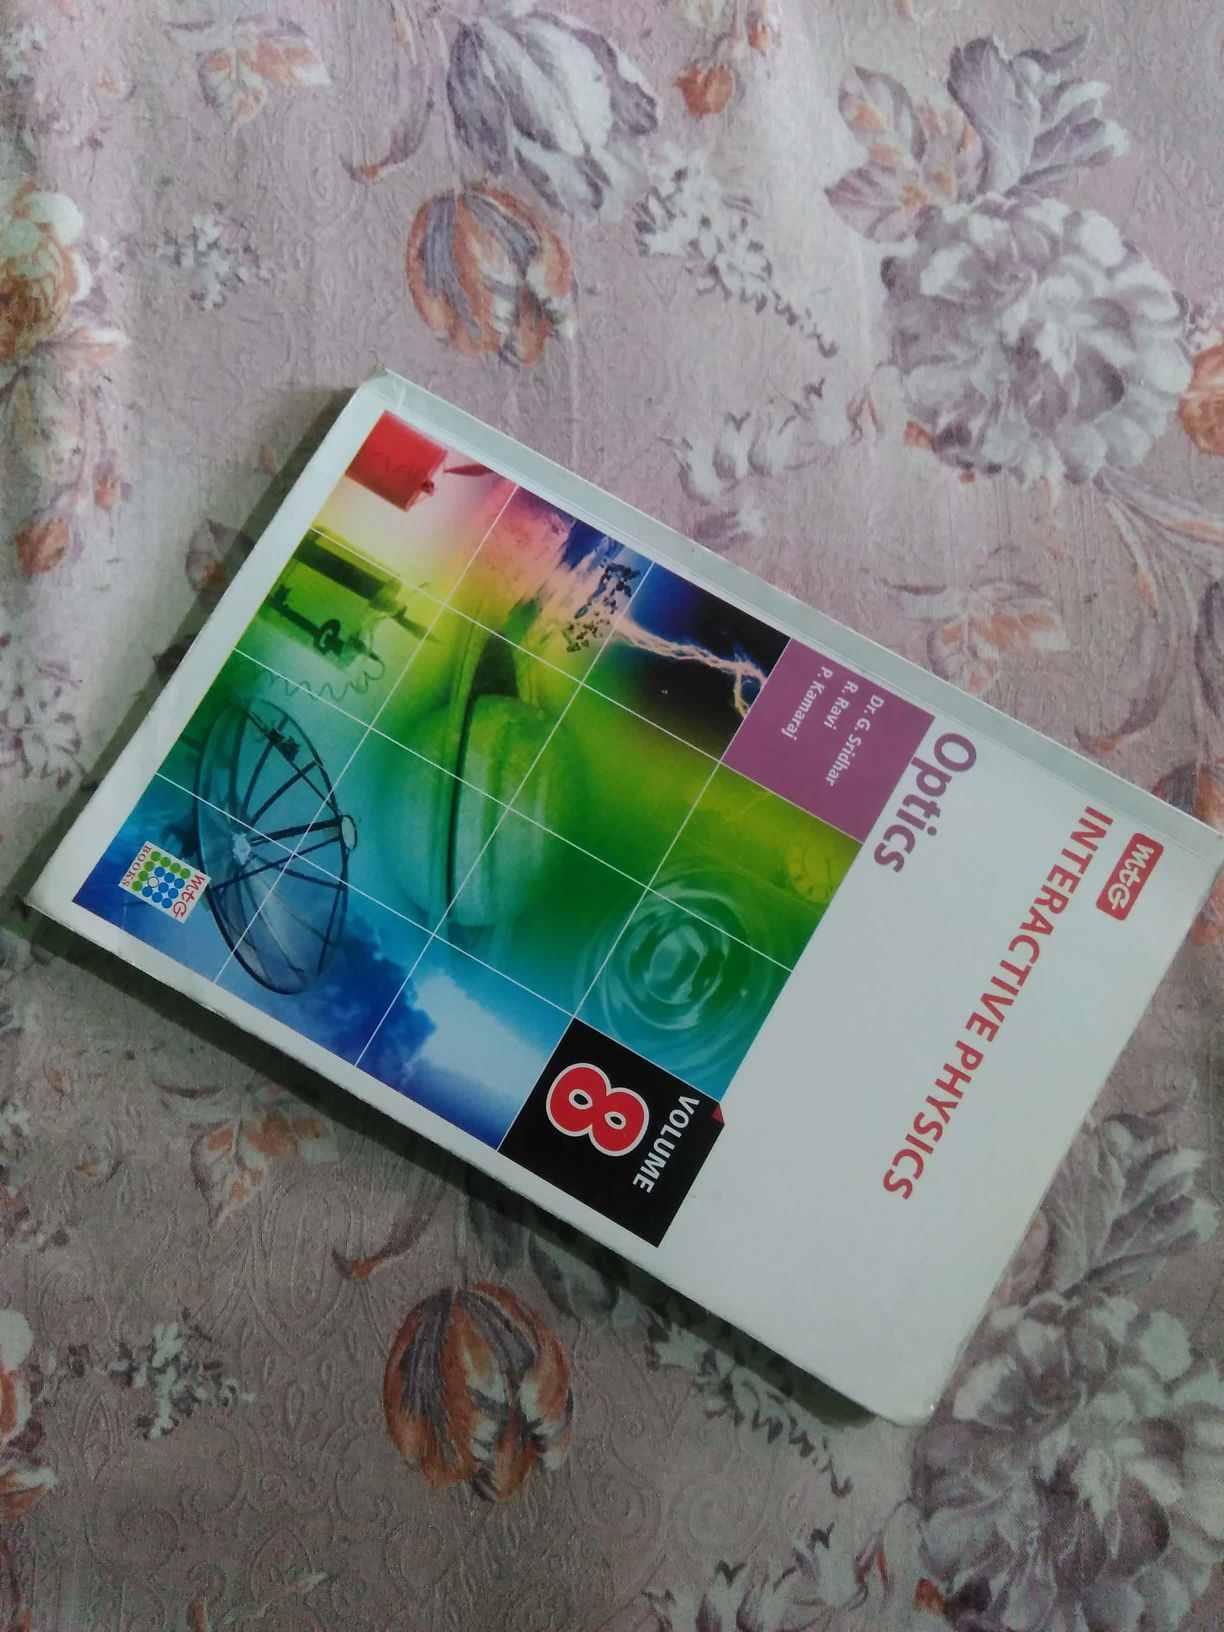optics: (81, 377, 1202, 1453)
